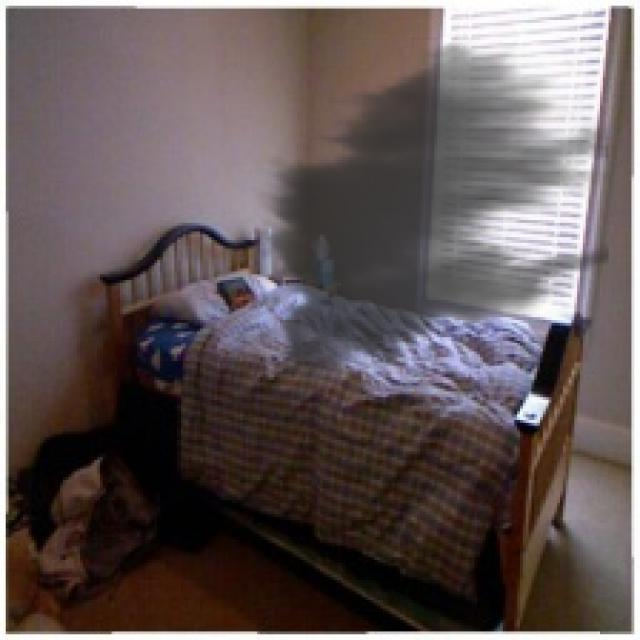Smoke: (248, 31, 608, 392)
